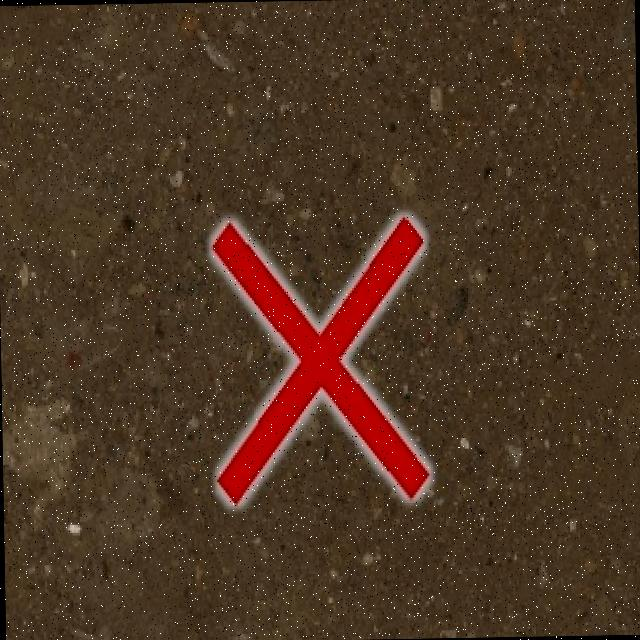x_marker: (211, 216, 428, 502)
